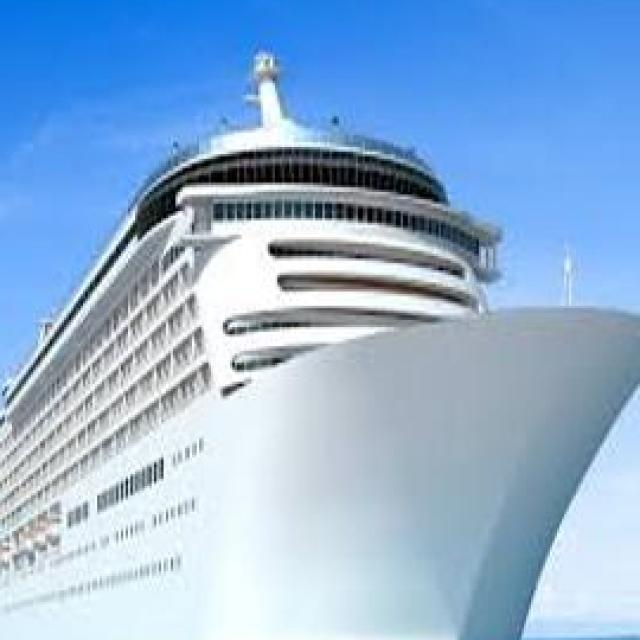passenger ship: (0, 52, 640, 640)
